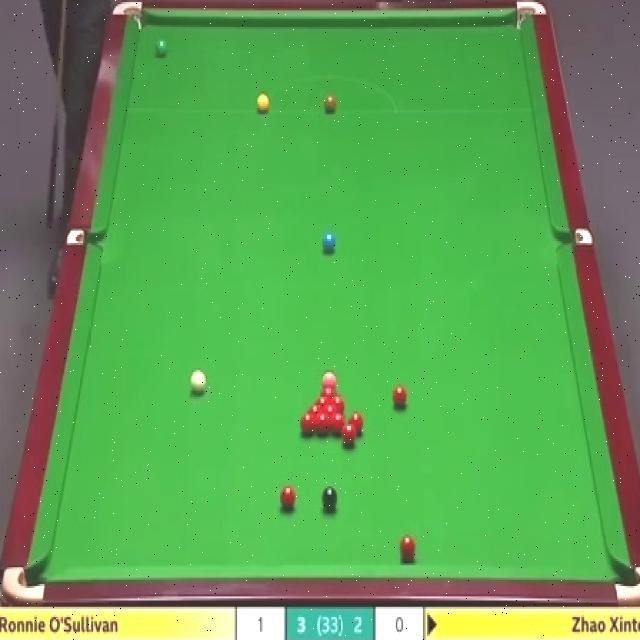black-ball: (322, 486, 339, 513)
blue-ball: (322, 232, 336, 252)
brown-ball: (323, 95, 337, 114)
green-ball: (156, 40, 168, 59)
pink-ball: (322, 370, 336, 383)
red-ball: (278, 485, 297, 511), (399, 536, 416, 564), (392, 386, 408, 410), (299, 412, 315, 435), (330, 413, 346, 436), (349, 412, 363, 436), (341, 425, 356, 447), (316, 412, 330, 434), (332, 394, 346, 412), (318, 384, 337, 394), (315, 395, 330, 405), (322, 404, 338, 413), (308, 404, 322, 414)
white-ball: (189, 365, 206, 396)
yellow-ball: (255, 94, 269, 114)
